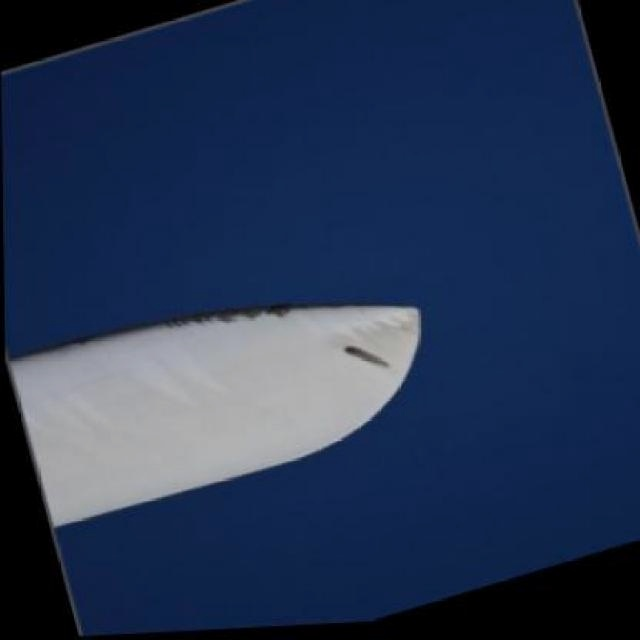Burn Mark: (339, 338, 395, 382)
EROSION: (92, 297, 316, 336)
